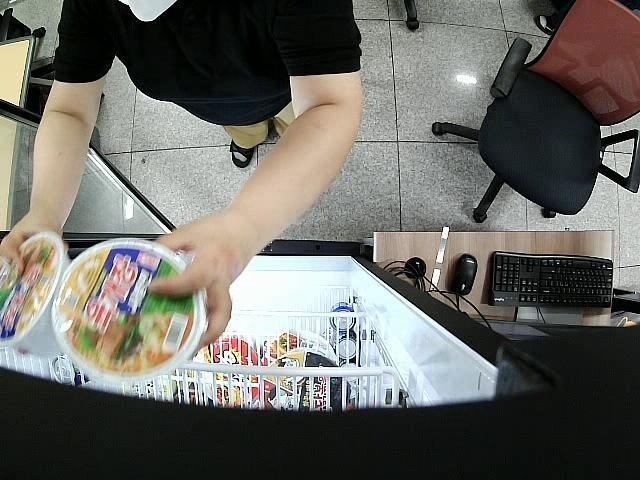09_yukGaeJang: (54, 238, 204, 384), (0, 231, 72, 359)
